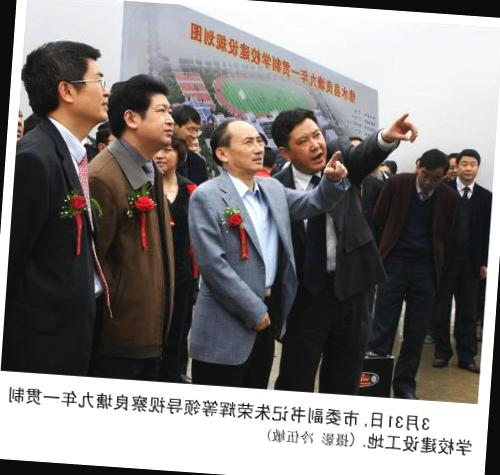no_helmet: (16, 31, 108, 132), (110, 73, 179, 156), (271, 102, 329, 172), (208, 110, 270, 174), (147, 134, 188, 176), (414, 148, 448, 192), (171, 102, 204, 147), (452, 145, 484, 183)
